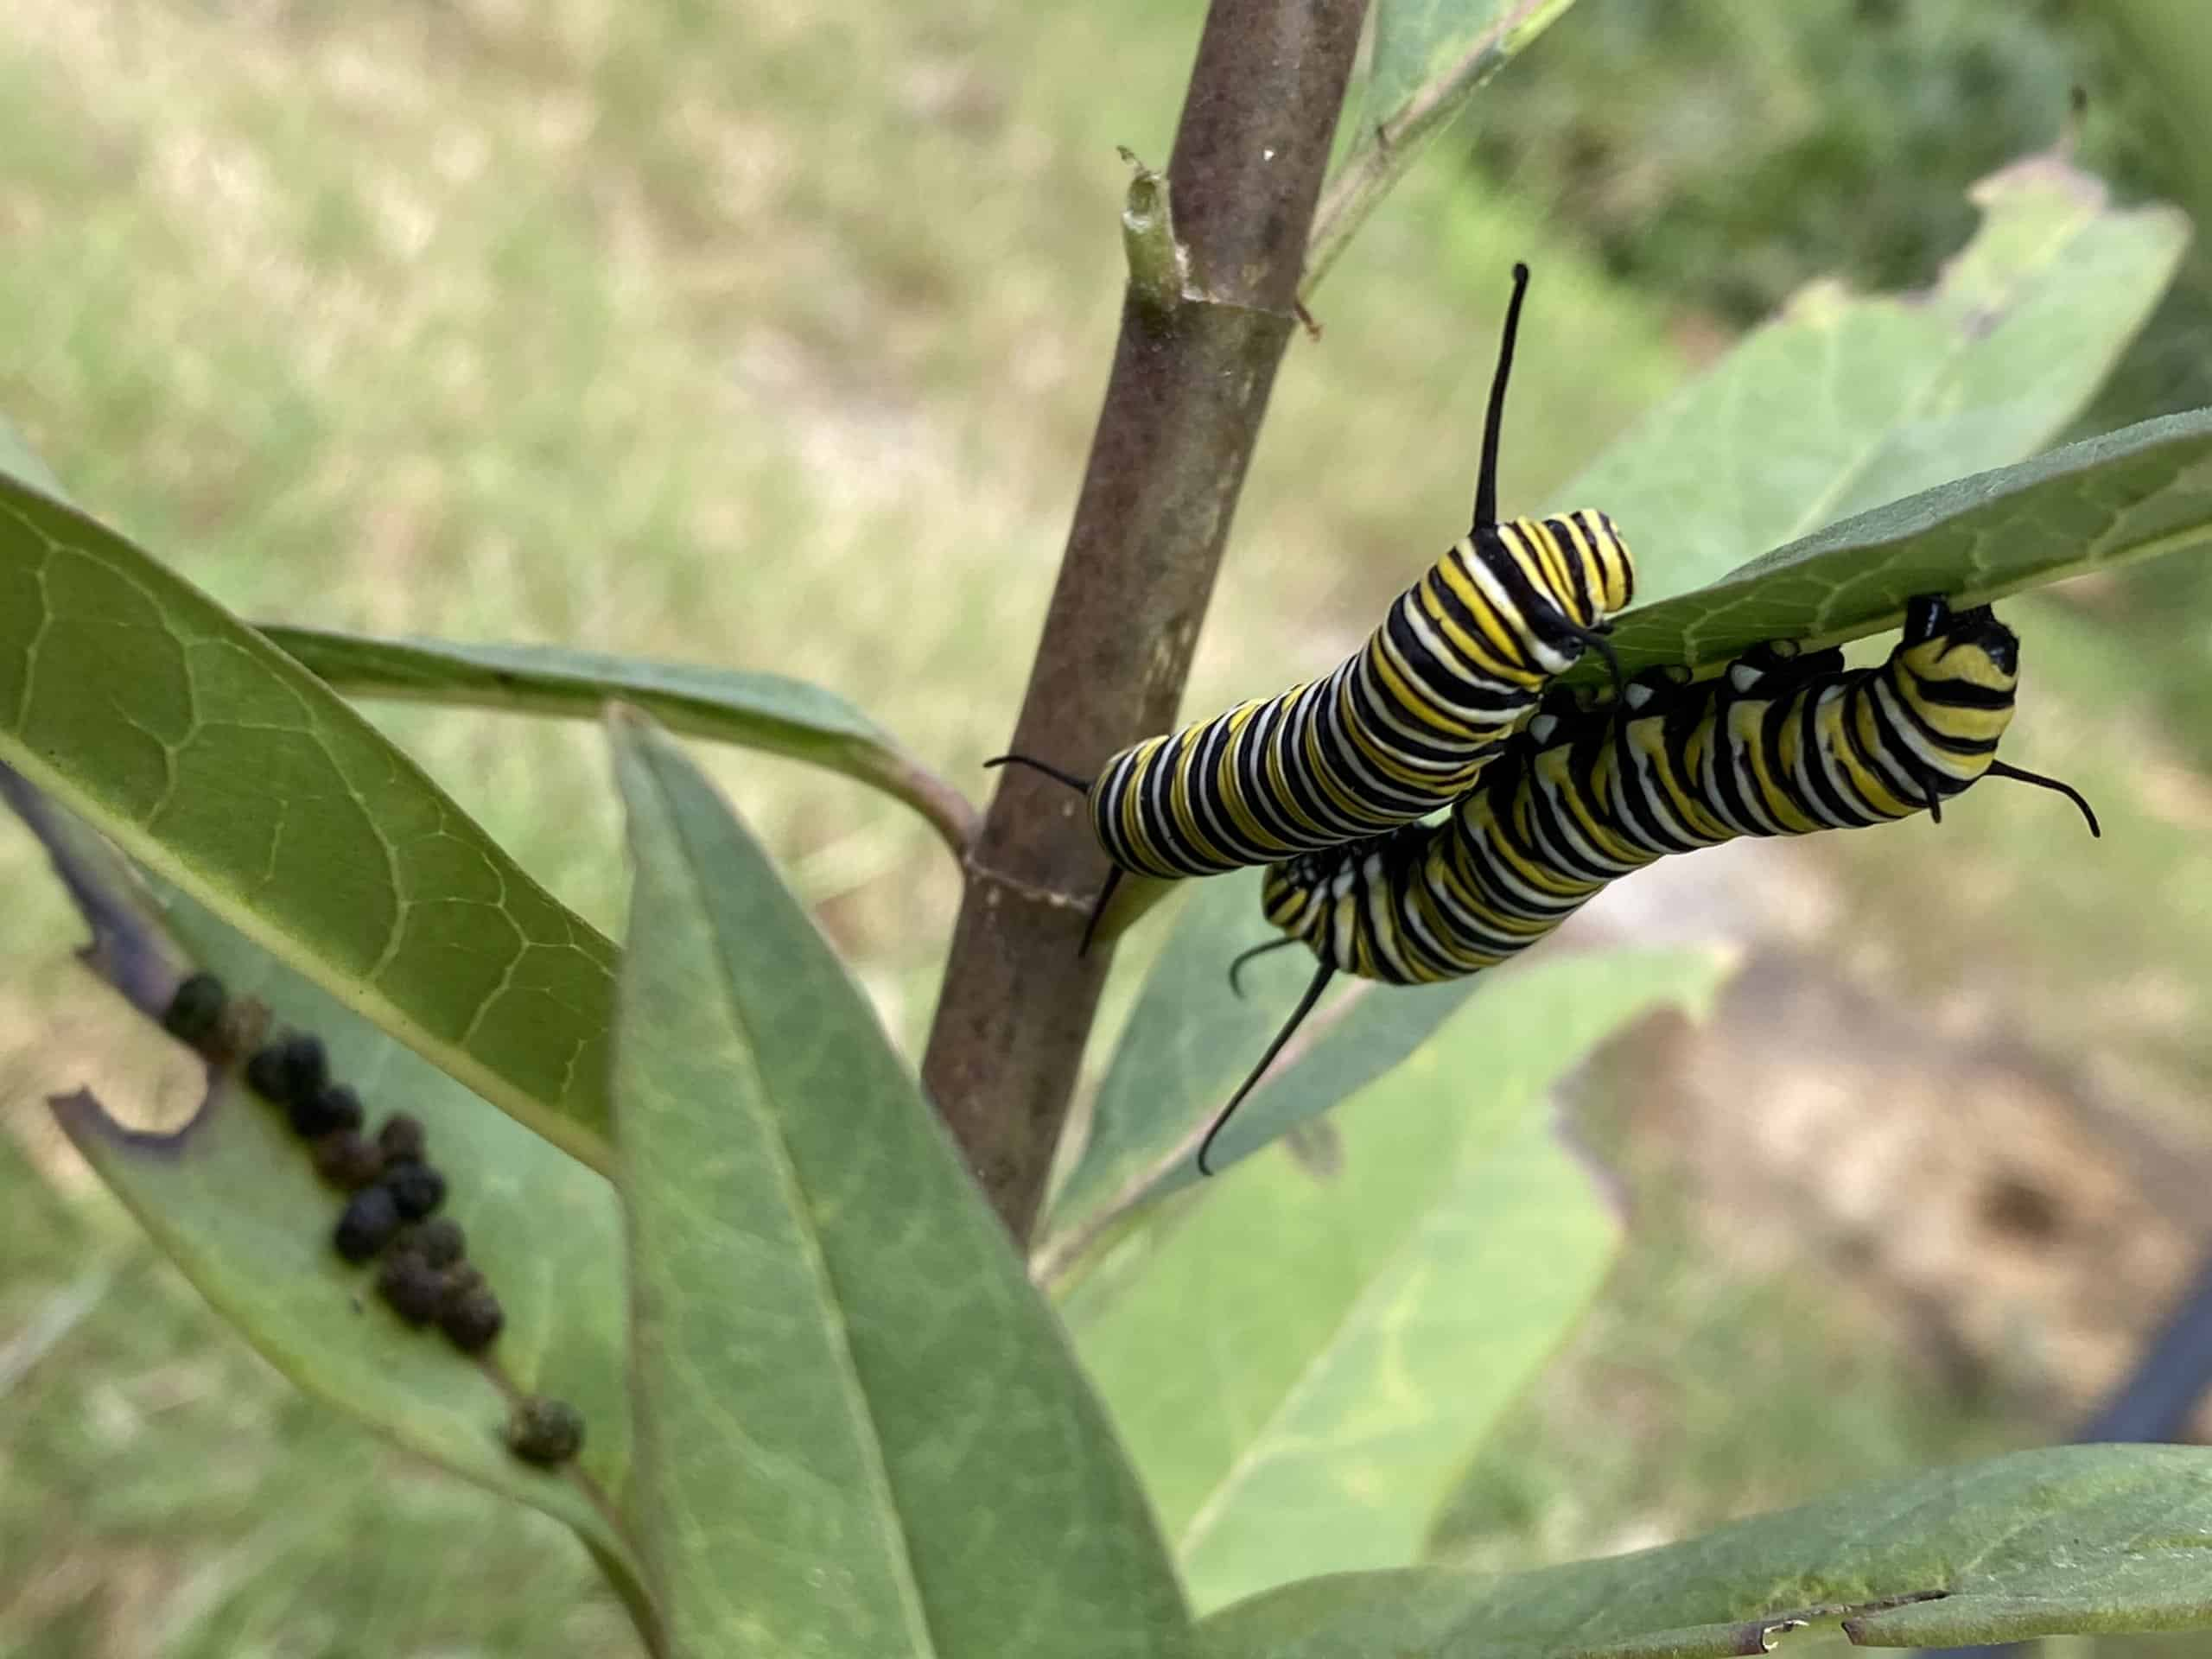Caterpillar: (1200, 579, 2095, 1175), (1026, 270, 1642, 934)
